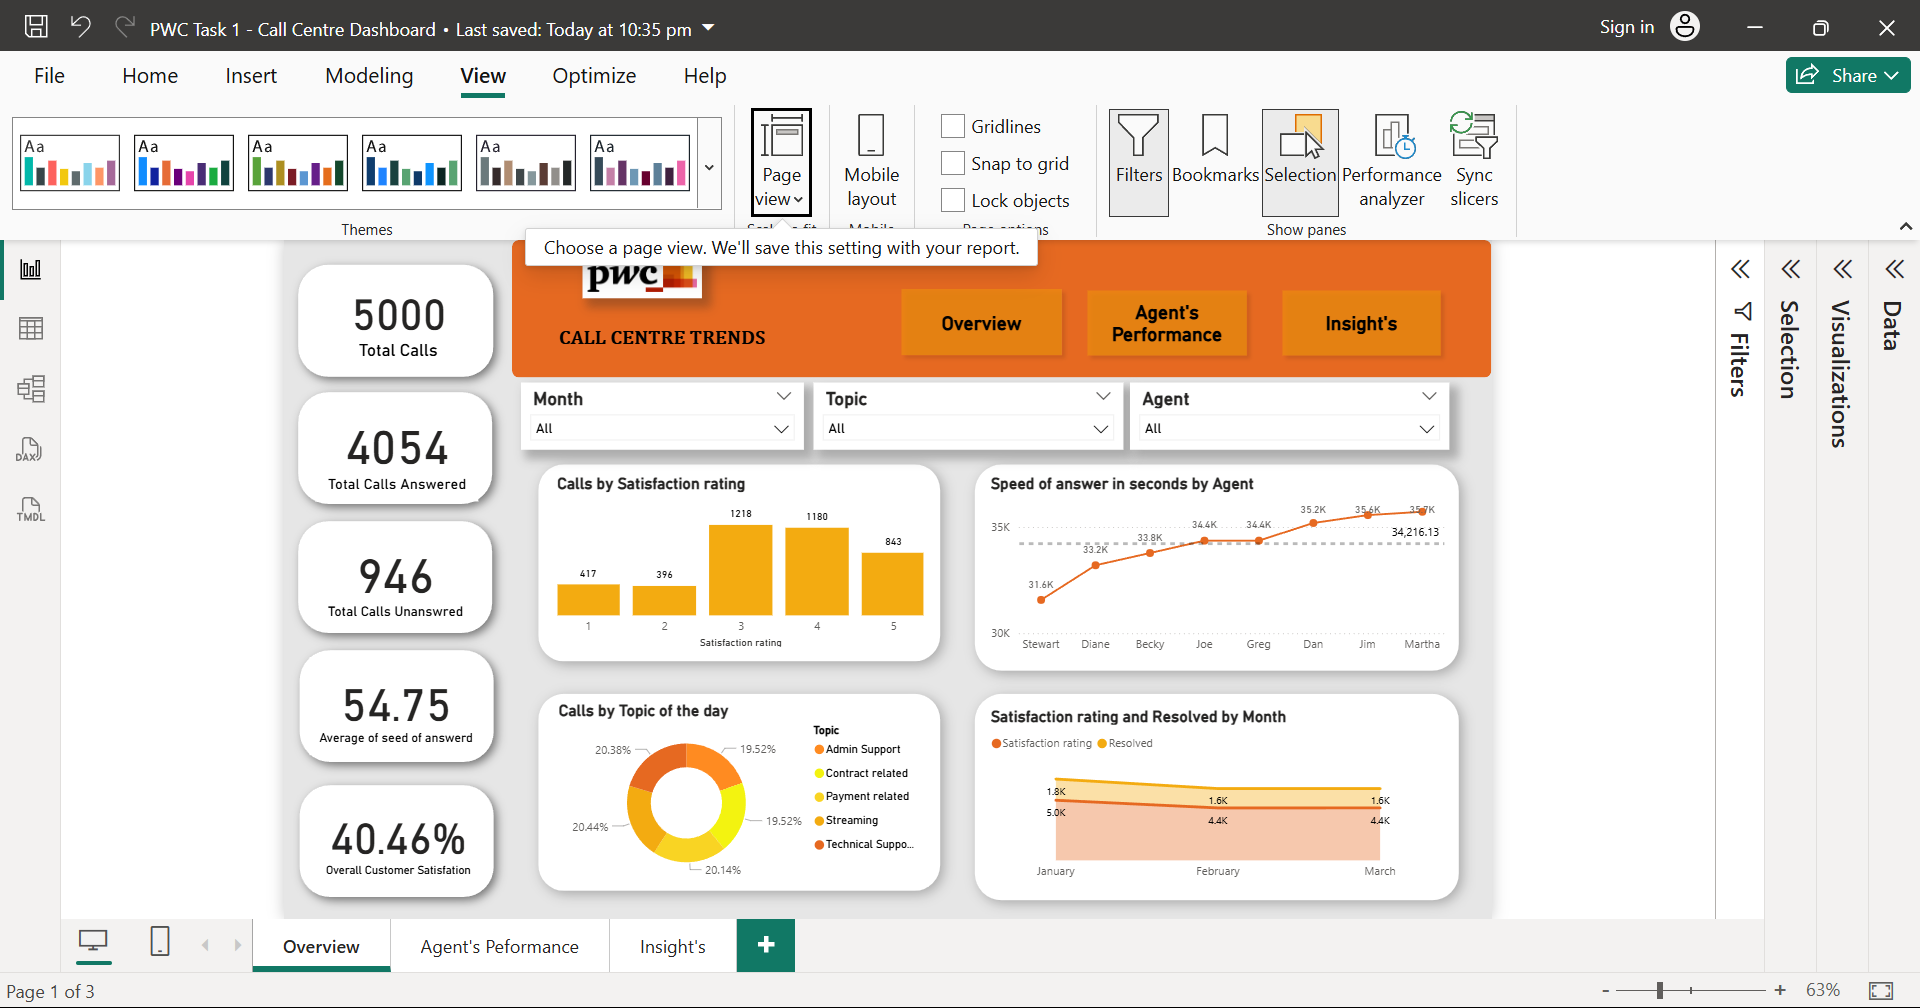

The page's visual inventory and layout, read from the dashboard file:
{"tool":"powerbi","page":{"name":"Overview","canvas":[1280,720],"ordinal":0},"visuals":[{"type":"shape","box":[241.4,0,1038.6,145.7],"z":0},{"type":"shape","box":[714.3,462.9,550,255.7],"z":2000},{"type":"shape","box":[714.3,220,550,255.7],"z":3000},{"type":"shape","box":[251.4,462.9,462.9,245.7],"z":4000},{"type":"shape","box":[251.4,220,462.9,245.7],"z":5000},{"type":"shape","box":[1.7,563.5,235.7,148.6],"z":6000},{"type":"shape","box":[1.4,420,235.7,148.6],"z":7000},{"type":"shape","box":[-0.6,283.5,235.7,148.6],"z":8000},{"type":"shape","box":[-0.6,146,235.7,148.6],"z":9000},{"type":"shape","box":[-0.6,11.4,237,149],"z":10000},{"type":"card","fields":{"Values":["Table.total calls"]},"box":[34.3,34.3,171.4,97.1],"z":11000},{"type":"card","fields":{"Values":["Table.total calls answered"]},"box":[33.7,169.1,172.9,108.6],"z":12000},{"type":"card","fields":{"Values":["Table.total calls unanswred"]},"box":[35.1,303.1,165.7,108.6],"z":13000},{"type":"card","fields":{"Values":["Table.Average of seed of answerd"]},"box":[27.1,441.7,182.9,104.3],"z":14000},{"type":"card","fields":{"Values":["Table.Overall Customer Satisfation"]},"box":[36,586,168.6,101.4],"z":15000},{"type":"slicer","fields":{"Values":["call centre trends.Date.Variation.Date Hierarchy.Month"]},"box":[251.4,151.4,300,71.4],"z":16000},{"type":"slicer","fields":{"Values":["call centre trends.Topic"]},"box":[562,151.4,328.6,71.4],"z":17000},{"type":"slicer","fields":{"Values":["call centre trends.Agent"]},"box":[897.1,151.4,338.6,71.4],"z":18000},{"type":"columnChart","fields":{"Category":["call centre trends.Satisfaction rating"],"Y":["Table.total calls"]},"box":[284.3,248.6,398.6,188.6],"z":19000},{"type":"lineChart","fields":{"Category":["call centre trends.Agent"],"Y":["call centre trends.Speed of answer in seconds"]},"box":[744.3,248.6,491.4,198.6],"z":20000},{"type":"donutChart","title":"Calls by Topic of the day","fields":{"Y":["Table.total calls"],"Category":["call centre trends.Topic","call centre trends.Date.Variation.Date Hierarchy.Day"]},"box":[285.7,489,397.1,197.1],"z":21000},{"type":"stackedAreaChart","fields":{"Category":["call centre trends.Date.Variation.Date Hierarchy.Month"],"Y":["call centre trends.Satisfaction rating","call centre trends.Resolved"]},"box":[744.3,494.3,491.4,192.9],"z":22000},{"type":"actionButton","box":[645.2,43.4,188.1,88],"z":23000},{"type":"actionButton","box":[843,44.6,186.9,86.8],"z":24000},{"type":"actionButton","box":[1049.2,44.6,185.7,86.8],"z":25000},{"type":"textbox","box":[285.8,85.6,254.5,45.8],"z":26000},{"type":"image","box":[317.2,10.9,126.6,50.7],"z":27000}]}

Visuals, with their boxes on the page's 1280x720 design canvas (x1, y1, x2, y2). These are canvas units, not pixel positions in the 1920x1008 screenshot, which may show the page scaled, cropped or inside an application window:
shape: l=241, t=0, r=1280, b=146
shape: l=714, t=463, r=1264, b=719
shape: l=714, t=220, r=1264, b=476
shape: l=251, t=463, r=714, b=709
shape: l=251, t=220, r=714, b=466
shape: l=2, t=564, r=237, b=712
shape: l=1, t=420, r=237, b=569
shape: l=-1, t=284, r=235, b=432
shape: l=-1, t=146, r=235, b=295
shape: l=-1, t=11, r=236, b=160
card - Table.total calls: l=34, t=34, r=206, b=131
card - Table.total calls answered: l=34, t=169, r=207, b=278
card - Table.total calls unanswred: l=35, t=303, r=201, b=412
card - Table.Average of seed of answerd: l=27, t=442, r=210, b=546
card - Table.Overall Customer Satisfation: l=36, t=586, r=205, b=687
slicer - call centre trends.Date.Variation.Date Hierarchy.Month: l=251, t=151, r=551, b=223
slicer - call centre trends.Topic: l=562, t=151, r=891, b=223
slicer - call centre trends.Agent: l=897, t=151, r=1236, b=223
columnChart - call centre trends.Satisfaction rating x Table.total calls: l=284, t=249, r=683, b=437
lineChart - call centre trends.Agent x call centre trends.Speed of answer in seconds: l=744, t=249, r=1236, b=447
"Calls by Topic of the day" donutChart: l=286, t=489, r=683, b=686
stackedAreaChart - call centre trends.Date.Variation.Date Hierarchy.Month x call centre trends.Satisfaction rating: l=744, t=494, r=1236, b=687
actionButton: l=645, t=43, r=833, b=131
actionButton: l=843, t=45, r=1030, b=131
actionButton: l=1049, t=45, r=1235, b=131
textbox: l=286, t=86, r=540, b=131
image: l=317, t=11, r=444, b=62
